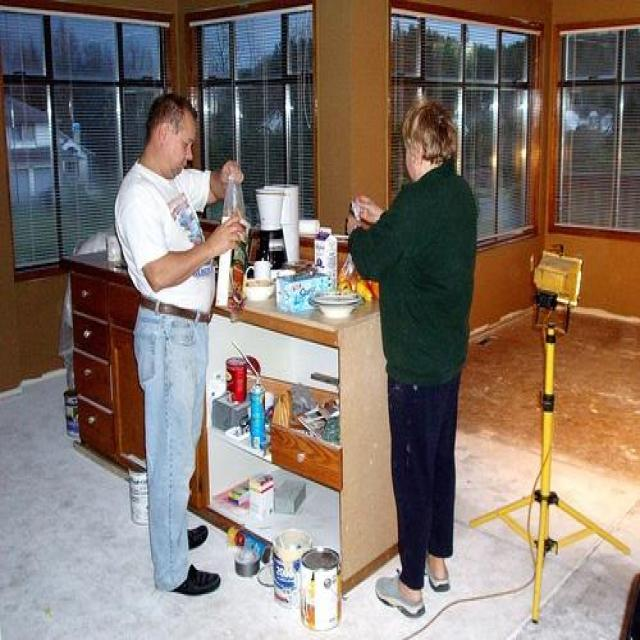No_Gloves: (191, 215, 254, 261), (214, 147, 260, 192), (347, 184, 391, 231), (336, 207, 365, 234)
